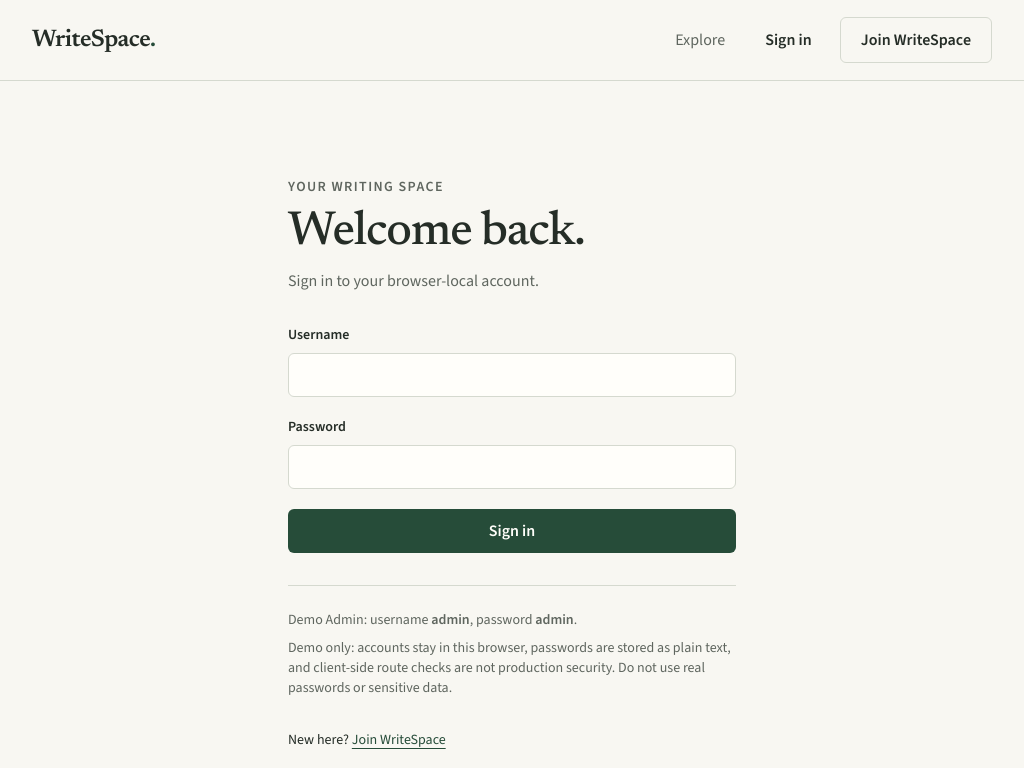
Test: real account journeys › logs in writer through explicit submission and reflects role state
In the field labelled "Username": (512, 375) [288,353,736,397], type "writer"
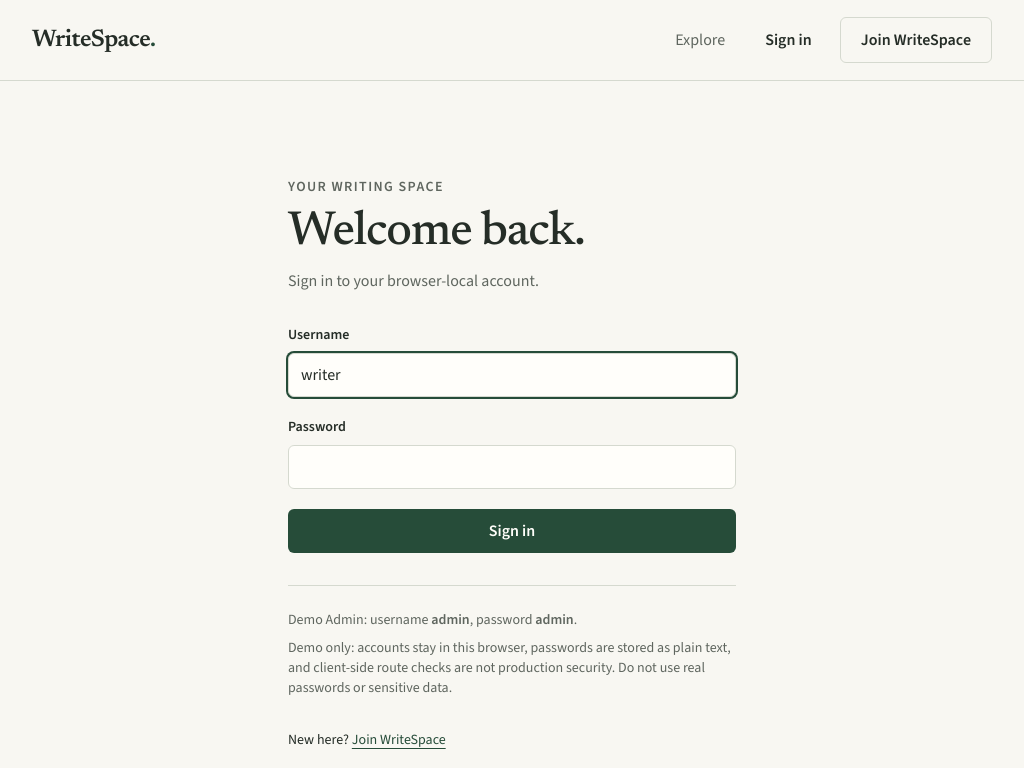
In the password field labelled "Password": (512, 467) [288,445,736,489], type " demo-only "
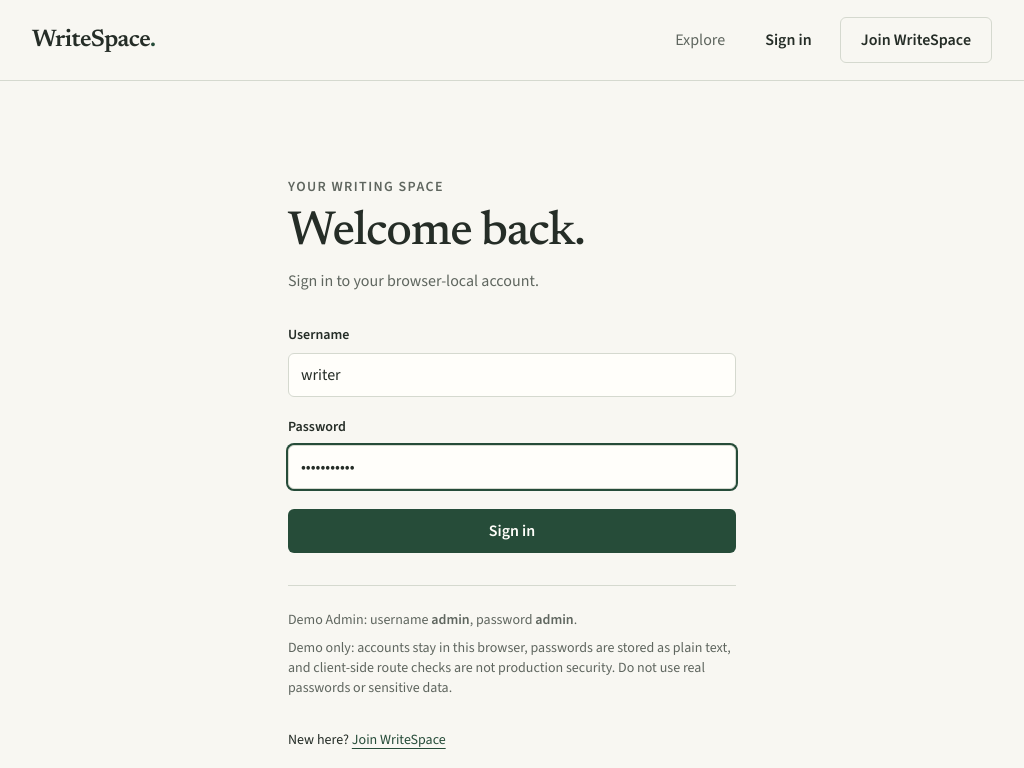
Click the button "Sign in": (512, 531) [288,509,736,553]
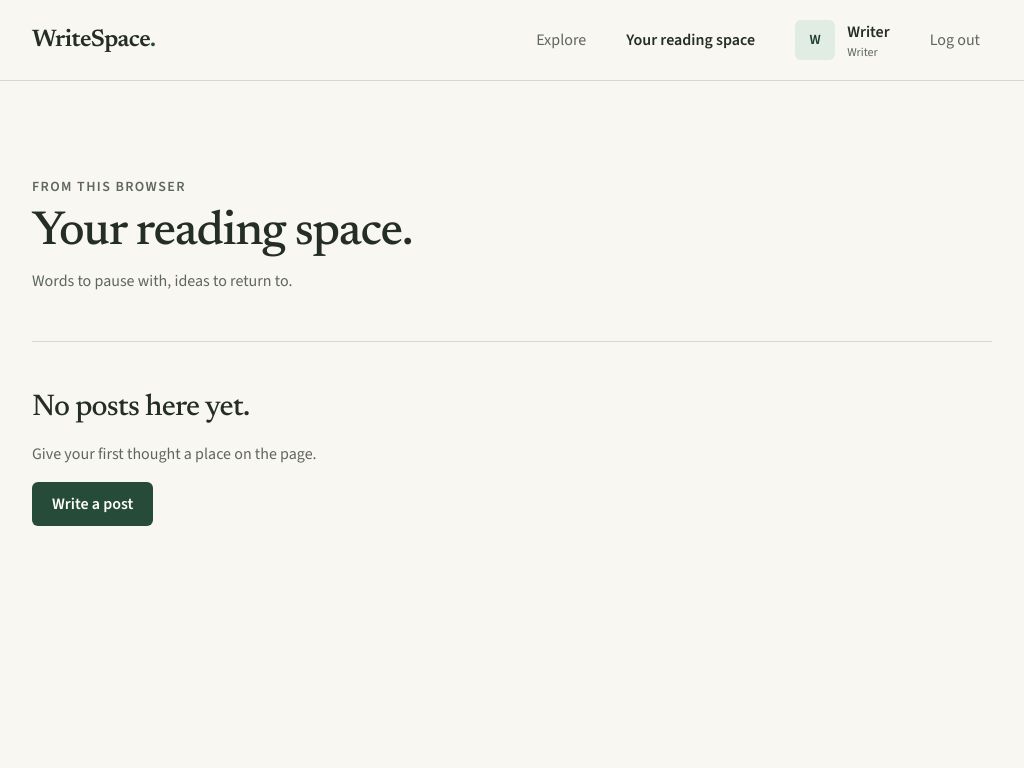
Expected: the link "Your reading space" is shown, [626,29,755,50]
